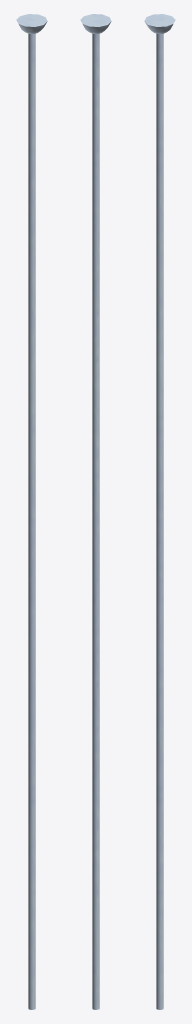
File: PartyBalloons02_String2.FBX
The picture shows the model from 3 angles, left to right: view 1: azimuth 30°, elevation 25°; view 2: azimuth 210°, elevation 25°; view 3: azimuth 330°, elevation 25°; orthographic projection.
Visible parts, largest first — view 1: PartyBalloons02_String2; view 2: PartyBalloons02_String2; view 3: PartyBalloons02_String2.
Part boxes in pixels (bbox=[...]): PartyBalloons02_String2: bbox=[16, 14, 47, 1009]; PartyBalloons02_String2: bbox=[80, 14, 111, 1009]; PartyBalloons02_String2: bbox=[144, 14, 175, 1009].
Size of what is drawn, in the model's own units: 0.029 by 1 by 0.0276.
